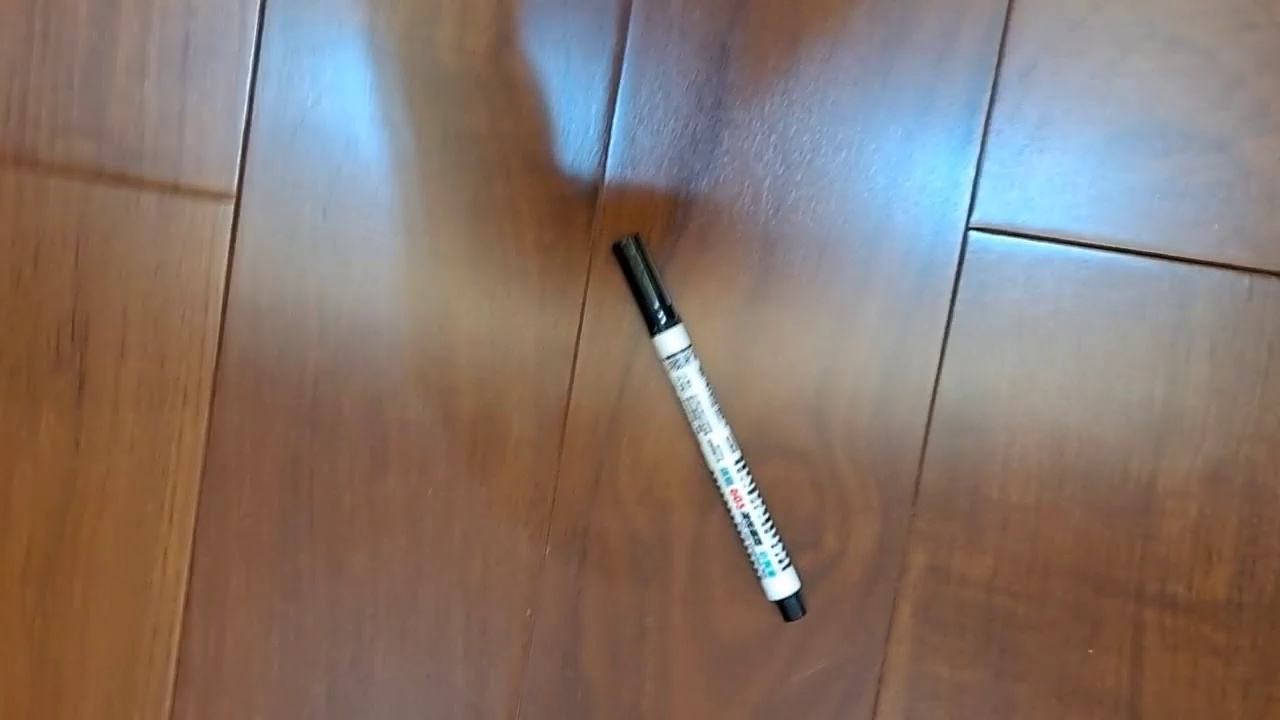pen: (608, 228, 809, 624)
